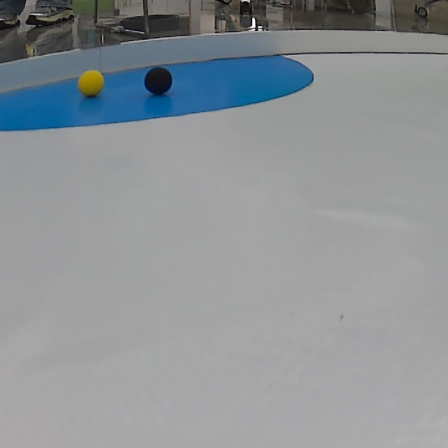black: (146, 69, 174, 93)
blue_base: (0, 57, 315, 134)
yellow: (77, 69, 106, 96)
